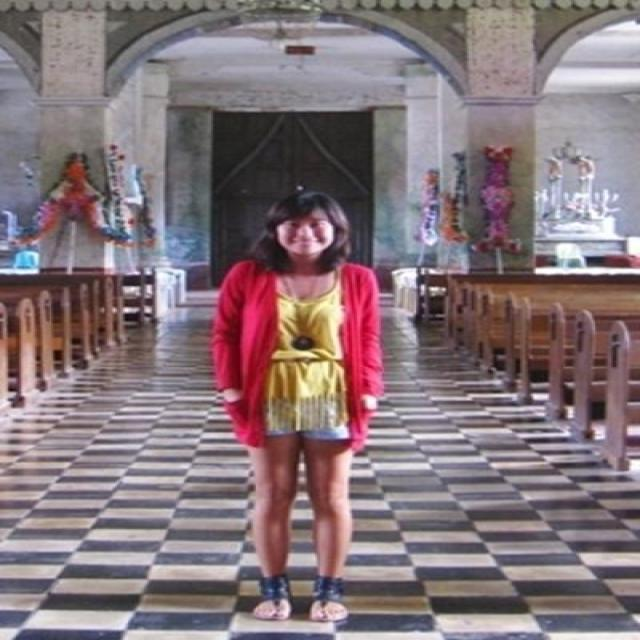jacket: (210, 261, 396, 447)
shirt: (266, 273, 347, 437)
shoe: (250, 566, 352, 608)
